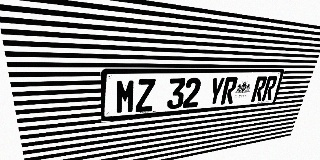2: (183, 78, 202, 108)
3: (166, 78, 186, 110)
M: (115, 79, 136, 114)
R: (220, 77, 238, 105), (251, 76, 268, 102), (261, 76, 278, 101)
Y: (207, 77, 225, 106)
Z: (135, 79, 156, 112)
